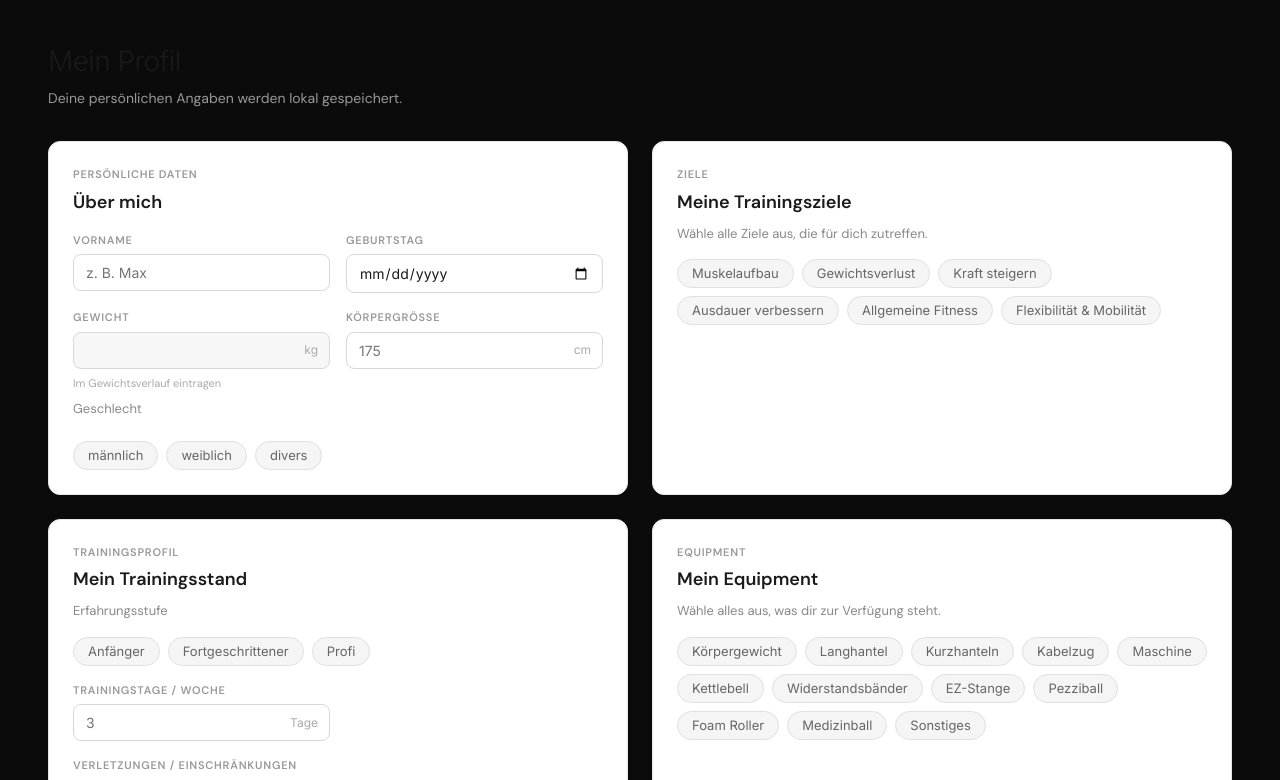
Test: UserProfile – Geburtstag & Alter-Berechnung › löschen des Geburtsdatums entfernt Alter-Hinweis
The width and height of the screenshot is (1280, 780).
Step 1. Type "1990-01-01" into the date field labelled "Geburtstag" → (474, 274), box [346,254,603,293]
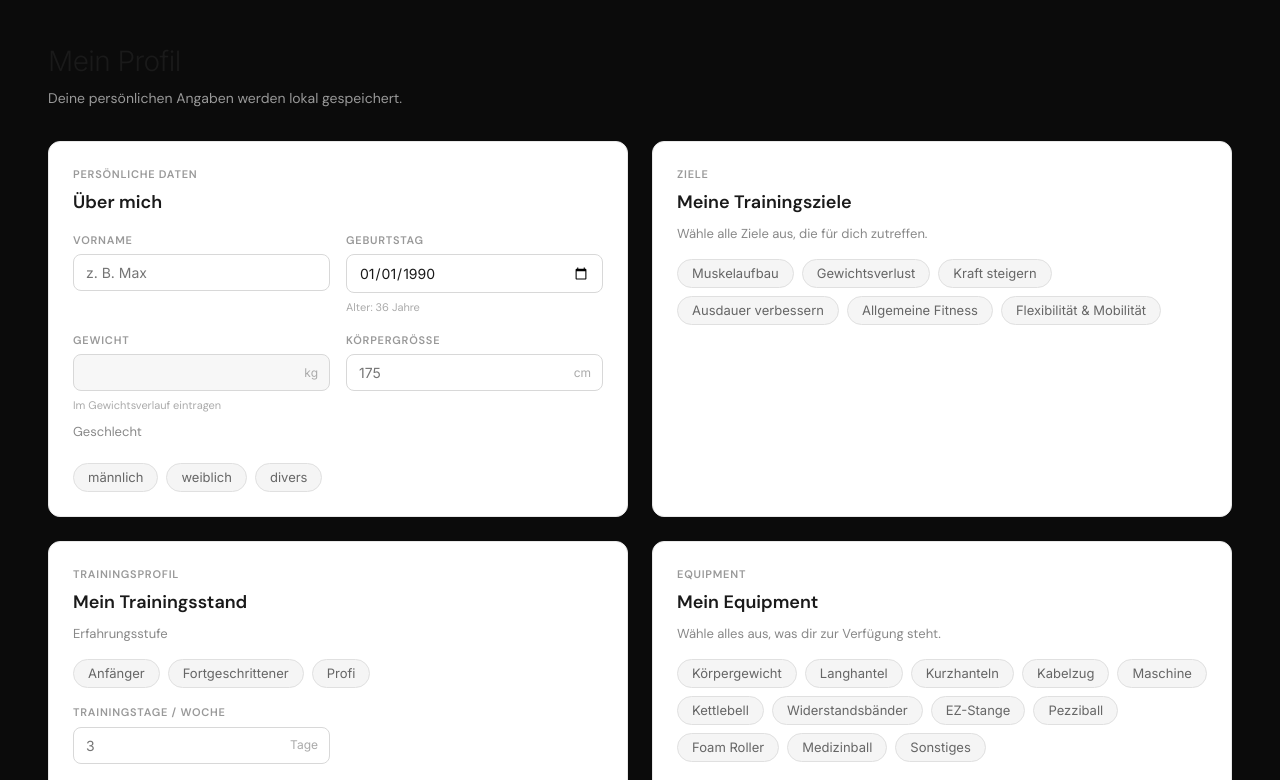
Expected: the text "Alter: 36 Jahre" is shown, [346,300,420,314]
Step 2. Clear the date field labelled "Geburtstag" → (474, 274), box [346,254,603,293]
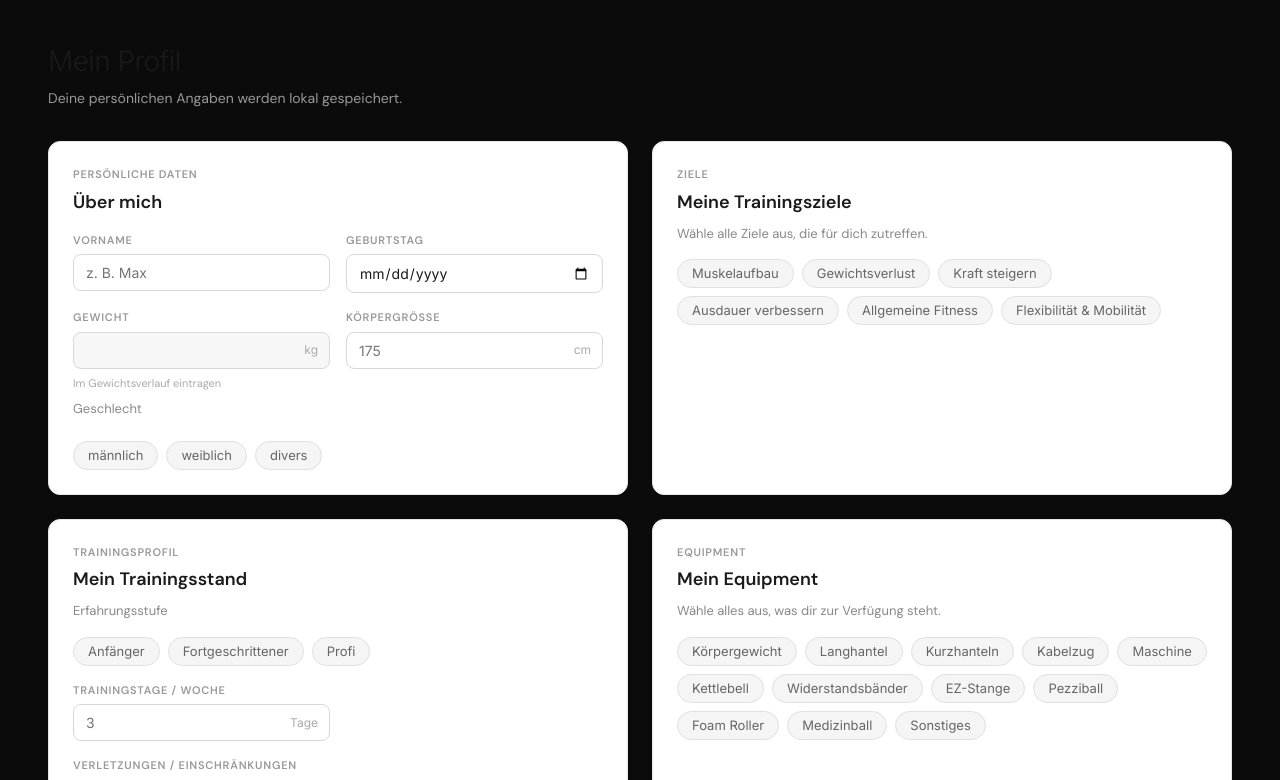
Expected: the text "Alter:" is gone
